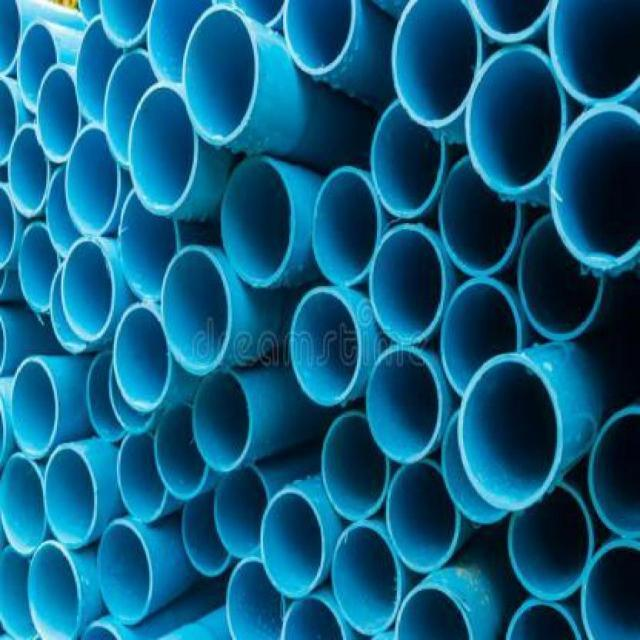pipe: (457, 352, 564, 510), (465, 44, 567, 195), (549, 104, 640, 271), (391, 0, 482, 127), (183, 3, 260, 145), (519, 213, 604, 341), (509, 481, 594, 600), (438, 154, 520, 276), (440, 277, 522, 399), (219, 156, 295, 287), (547, 0, 640, 105), (128, 82, 199, 216), (370, 225, 447, 347), (161, 245, 232, 375), (366, 345, 443, 464), (370, 101, 445, 217), (386, 460, 460, 575), (290, 287, 361, 406), (311, 166, 381, 286), (331, 521, 402, 637), (322, 412, 390, 520), (260, 488, 325, 598), (119, 188, 179, 302), (588, 408, 639, 540), (104, 48, 158, 170), (114, 303, 173, 414), (192, 368, 254, 472), (142, 0, 214, 89), (65, 124, 121, 238), (97, 519, 153, 627), (580, 540, 639, 639), (44, 443, 98, 551), (283, 0, 359, 76), (62, 236, 116, 342), (76, 15, 127, 125), (154, 400, 210, 500), (28, 539, 84, 639), (9, 356, 59, 460), (214, 467, 270, 557), (225, 555, 284, 640), (0, 452, 48, 556), (117, 431, 168, 524), (36, 65, 81, 164), (394, 583, 472, 640), (8, 121, 50, 220), (469, 0, 563, 44), (17, 19, 59, 113), (18, 221, 60, 314), (182, 500, 230, 578), (96, 0, 159, 49), (281, 595, 348, 640)
